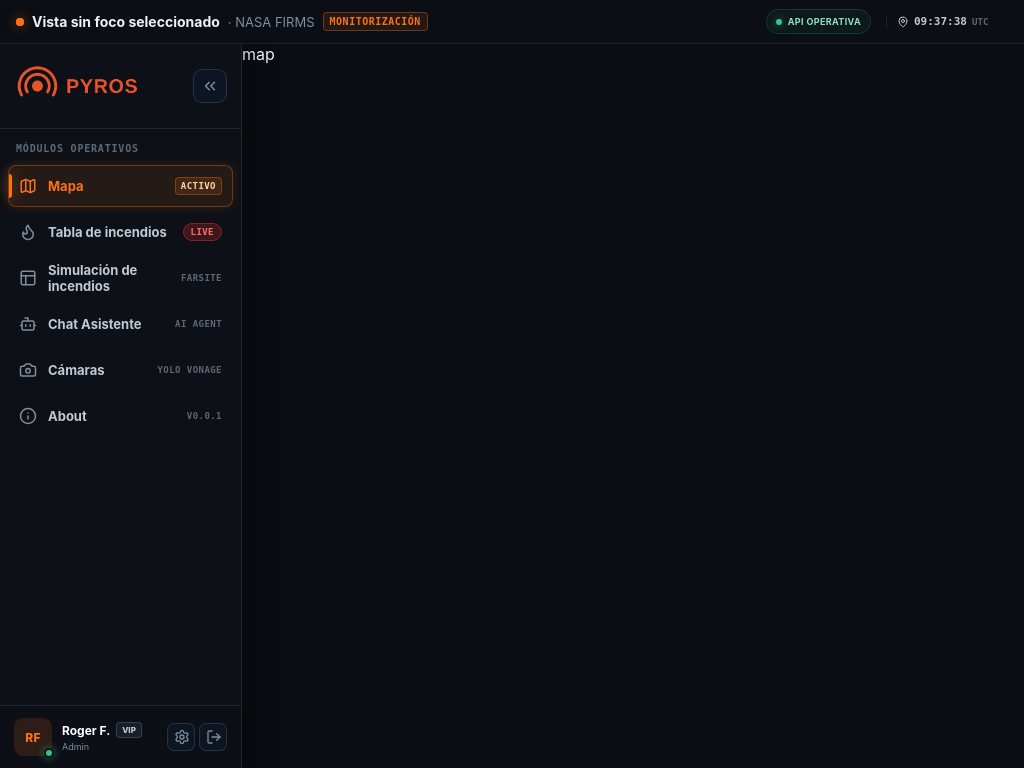
Test: AppShell tactical layout › collapses and expands the tactical sidebar from its toggle button
What coordinates should you click on to do the following:
click the button named "Plegar menú"
I would click on:
 (210, 86)
Its box is 193,69 -> 227,103.
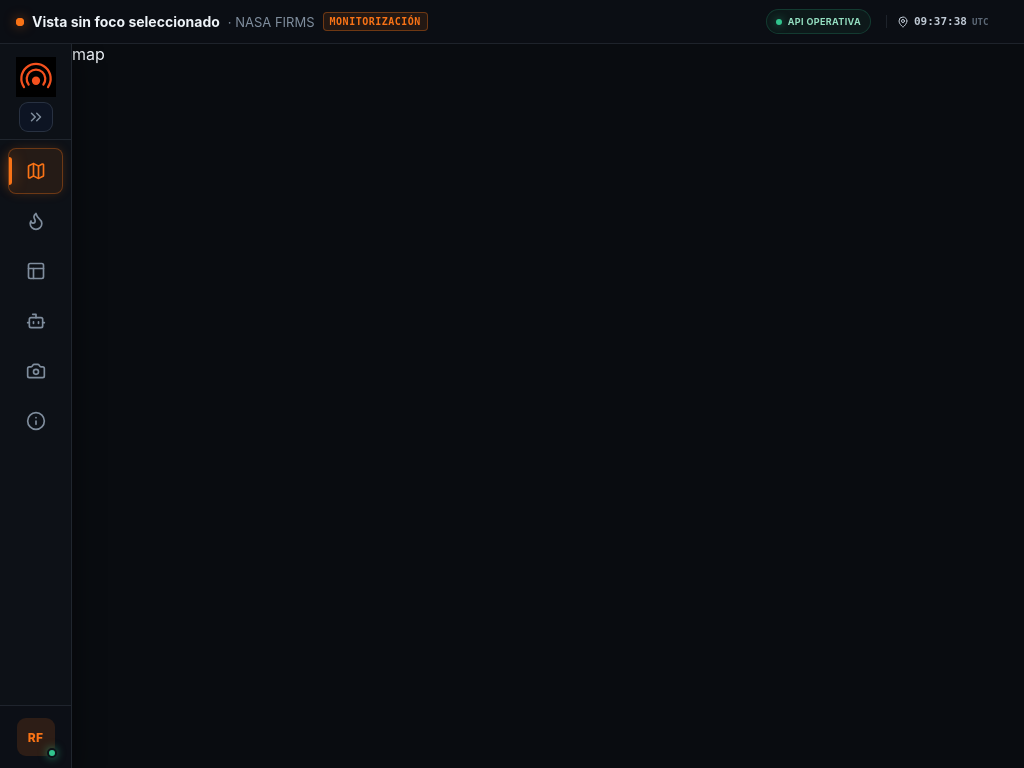
Now the button named "Expandir menú" is shown, box 19,102 -> 53,132
